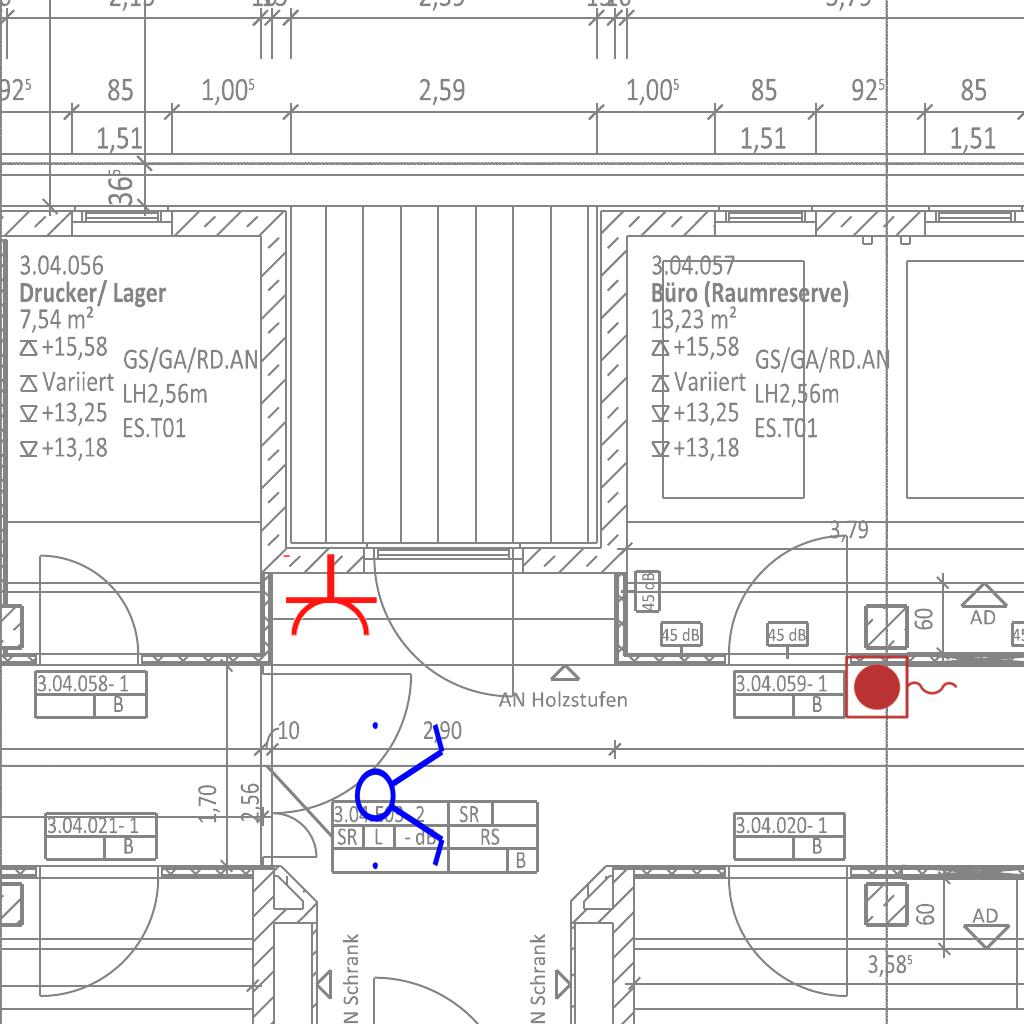Schukosteckdose_einfach: (279, 552, 379, 639)
Serienschalter: (353, 710, 449, 878)
Zugtaster: (841, 652, 963, 724)
